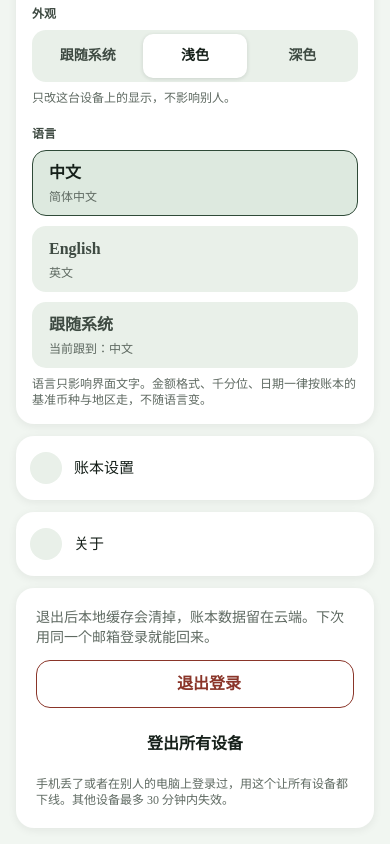
Test: 登出所有设备 asks first, and cancelling does nothing
(page scrolled)
Click the button with test id "settings-logout-all" at (195, 744), box [36,720,354,768]
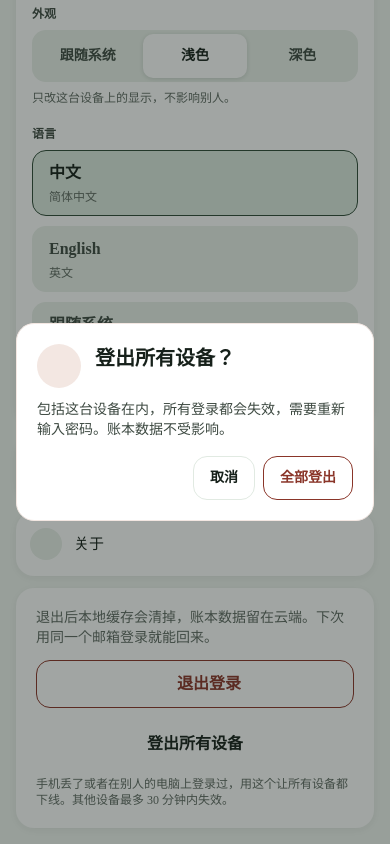
Check: the text "登出所有设备？" is shown, box [95,347,235,369]
Check: the text "包括这台设备在内，所有登录都会失效，需要重新输入密码。账本数据不受影响。" is shown, box [37,400,353,440]
Check: the text "全部登出" is shown, box [280,468,336,488]
Click the button with test id "confirm-cancel" at (224, 478), box [193,456,255,500]
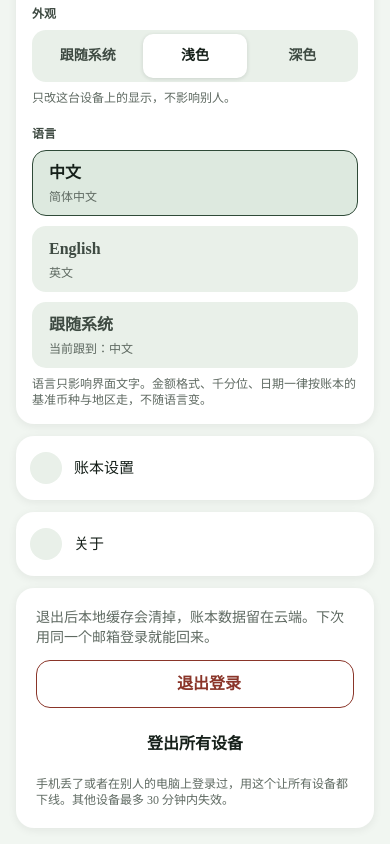
Check: the message with test id "confirm-dialog" is gone
